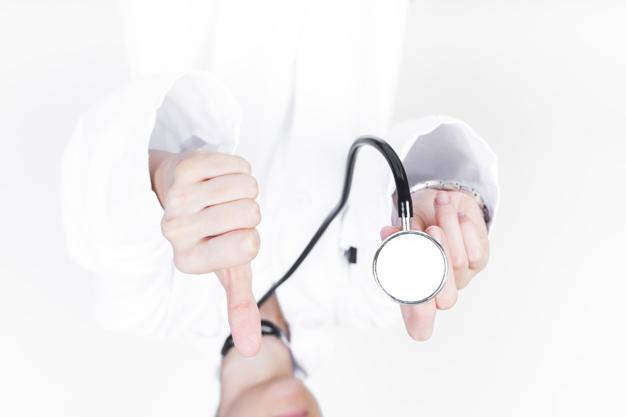thumbsdown: (160, 150, 262, 359)
